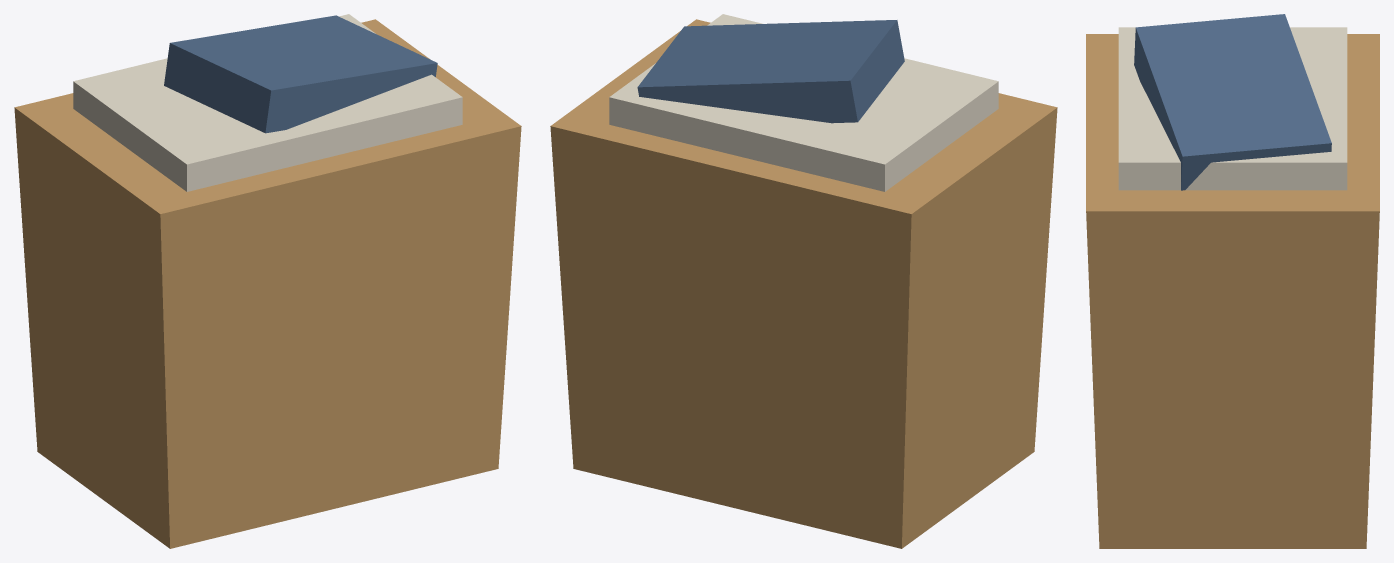
The model's file is GD_LaundryBasket_01.glb.
3 renders of one model, left to right at view 1: azimuth 30°, elevation 25°; view 2: azimuth 150°, elevation 25°; view 3: azimuth 270°, elevation 25°, orthographic.
Parts seen in each view (by area): view 1: GD_LaundryBasket_01; view 2: GD_LaundryBasket_01; view 3: GD_LaundryBasket_01.
Part boxes in pixels (x1,y1,x2,y2): GD_LaundryBasket_01: (14, 14, 521, 548); GD_LaundryBasket_01: (550, 14, 1057, 548); GD_LaundryBasket_01: (1086, 14, 1379, 548).
Size of the model in its own units: 0.55 by 0.6056 by 0.385.
1 material, 1 textured.
